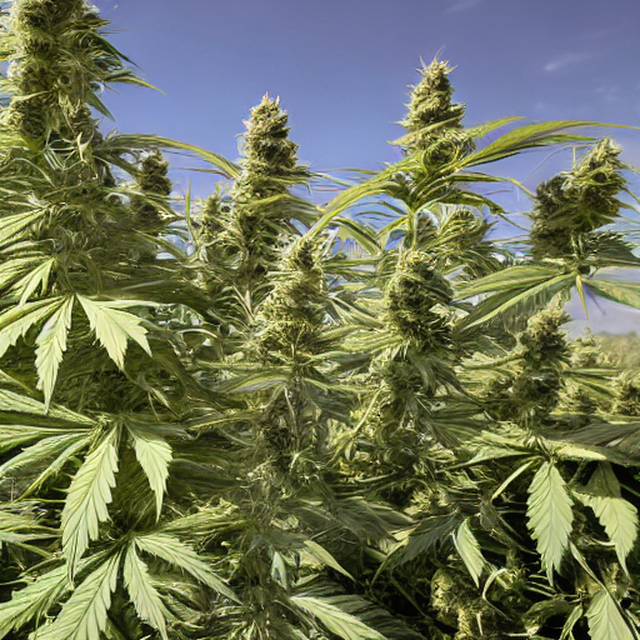Marijuana Plant: (53, 31, 640, 640)
